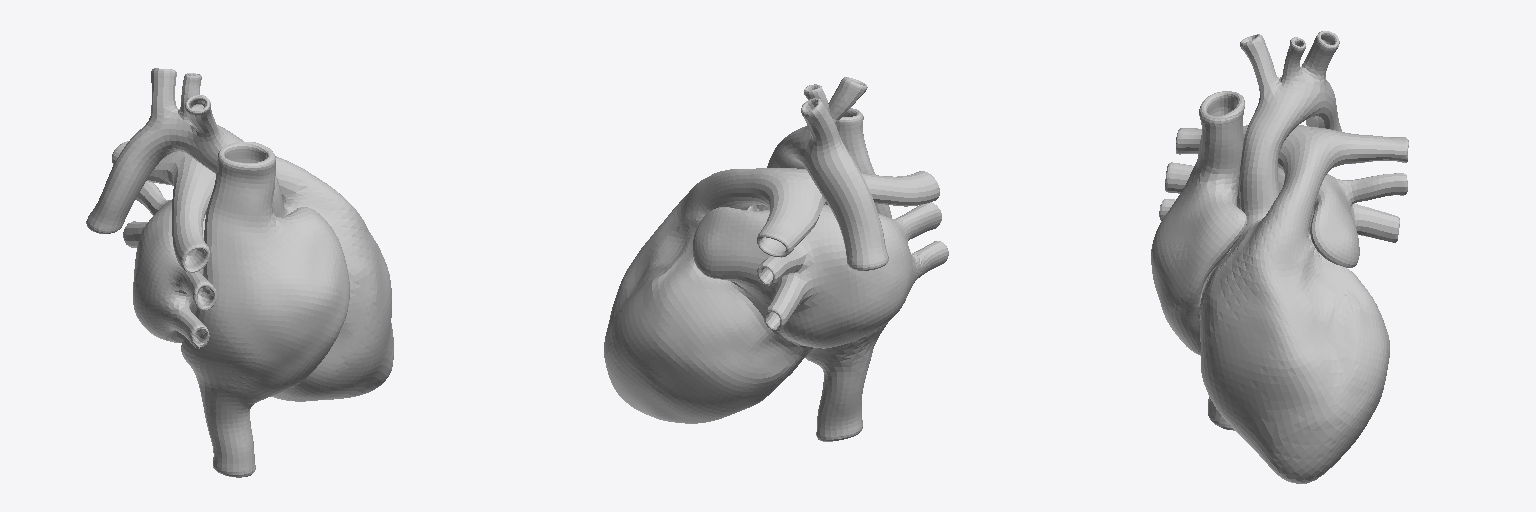
The picture shows the model from 3 angles: view 1: azimuth 30°, elevation 25°; view 2: azimuth 150°, elevation 25°; view 3: azimuth 270°, elevation 25°; orthographic projection.
Parts seen in each view (by area): view 1: HEART_PRO; view 2: HEART_PRO; view 3: HEART_PRO.
Boxes of the visible parts, <box> form: HEART_PRO: <box>86,68,393,477</box>; HEART_PRO: <box>604,77,948,441</box>; HEART_PRO: <box>1151,31,1408,483</box>.
Bounding box in the file's own units: 644 × 820 × 506.